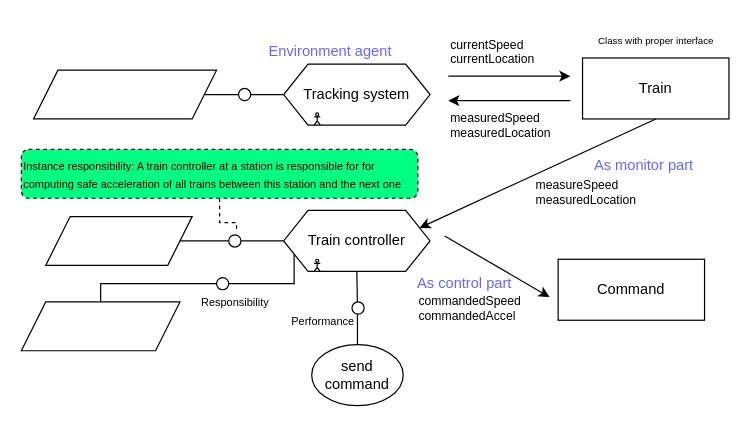
This 750x427 diagram has some shape labels left out. Here are the shapes that lost their labels. From the top down, the centre of each, then its label:
At (124,94): "Accurate estimate of speed & position".
At (118,240): "Safe command message".
At (100,326): "Command in time".
